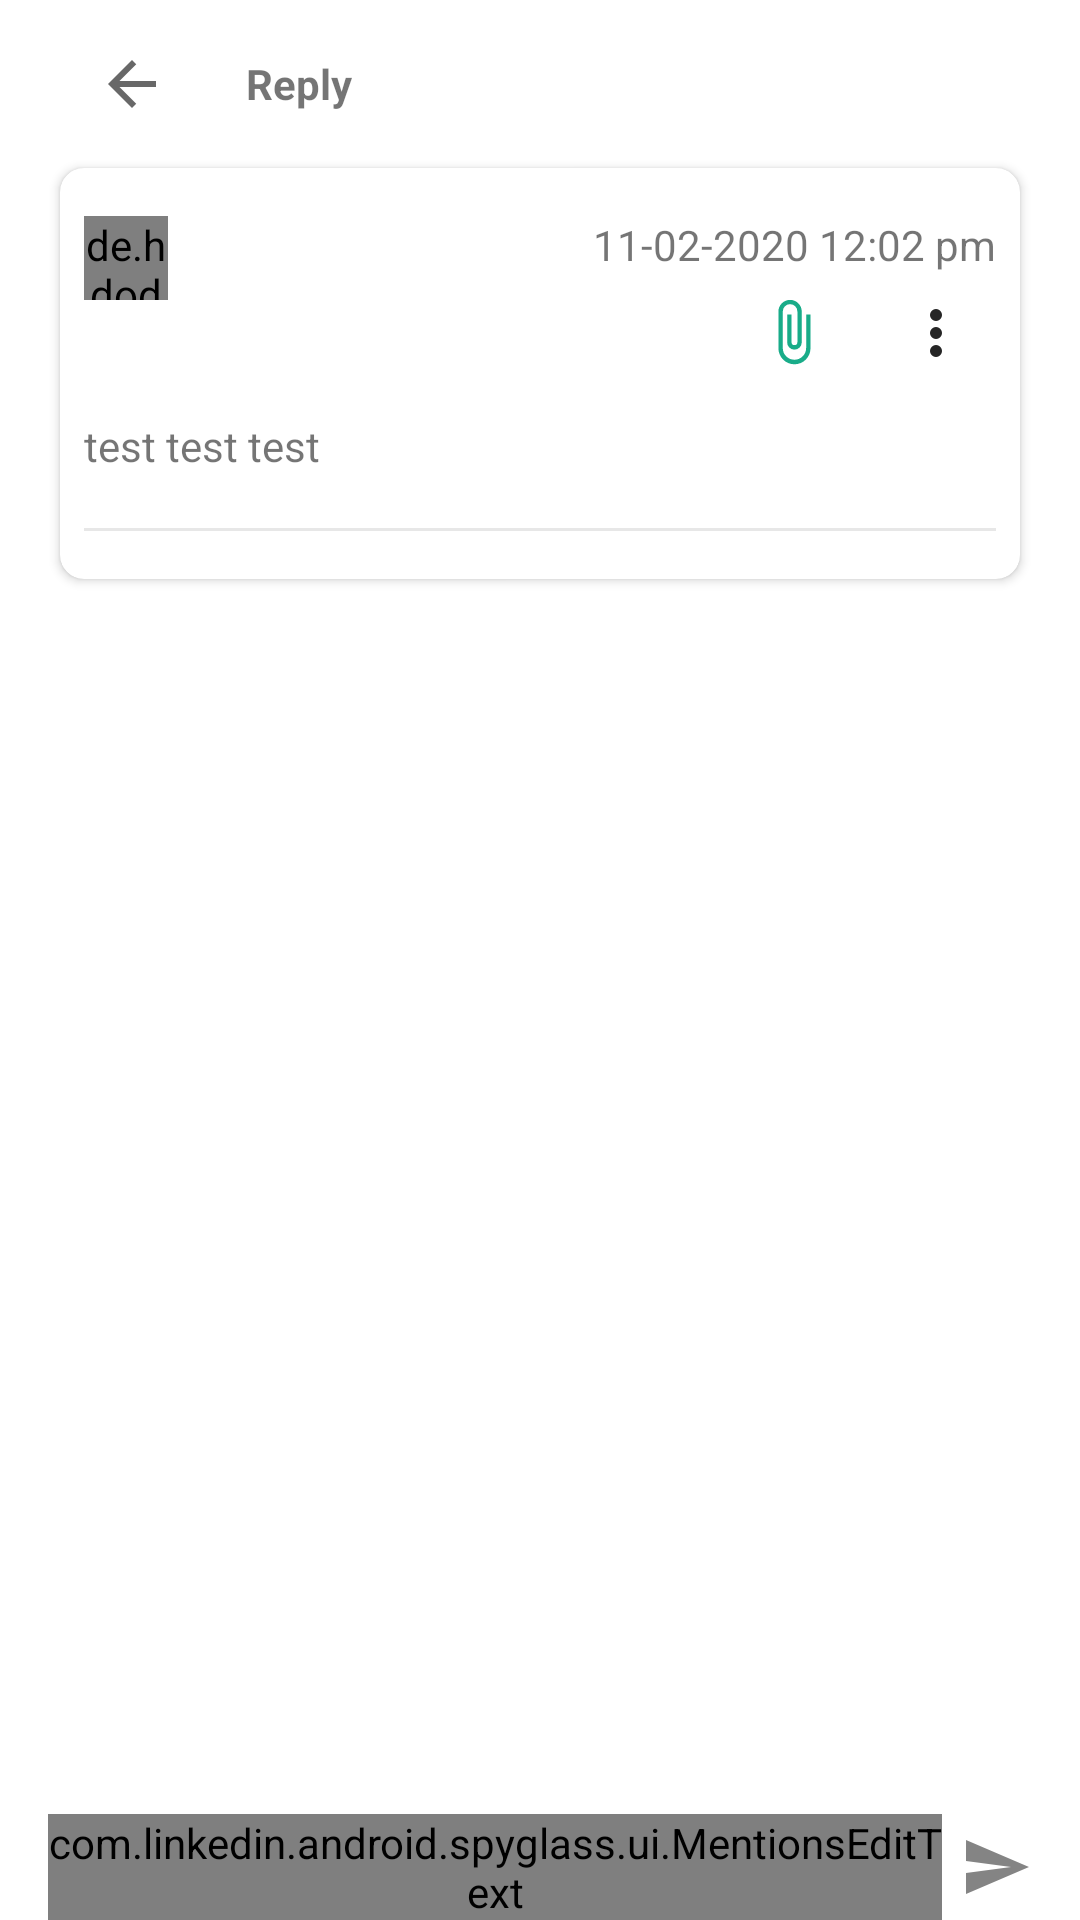

Screen size 1080 × 1920. Icon name, then its center in pixels as point (x, y):
arrow: point (132, 84)
attach file: point (794, 332)
send: point (997, 1867)
